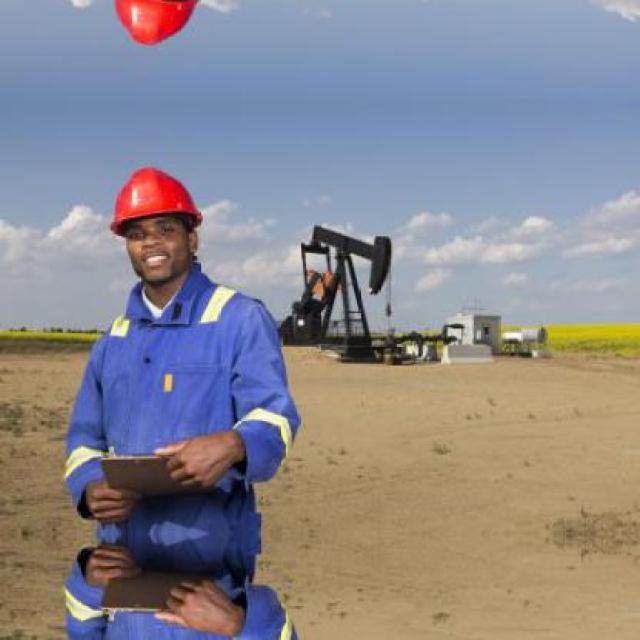helmet: (98, 156, 210, 287), (97, 0, 211, 57)
